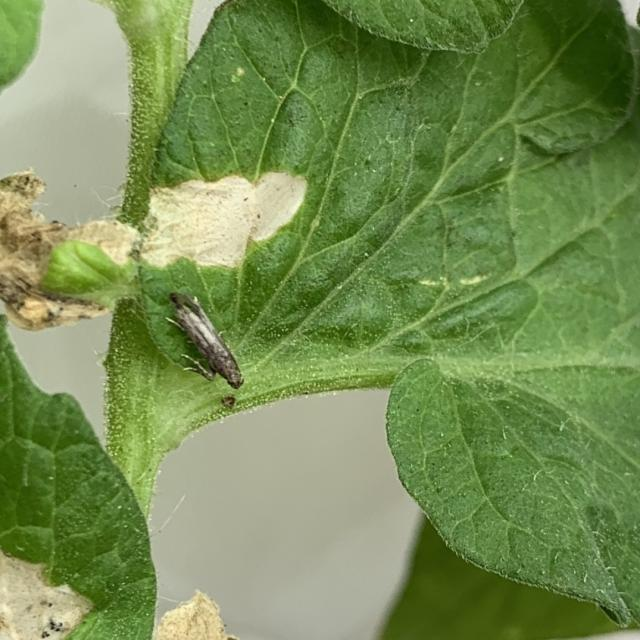Adult: (169, 292, 243, 388)
